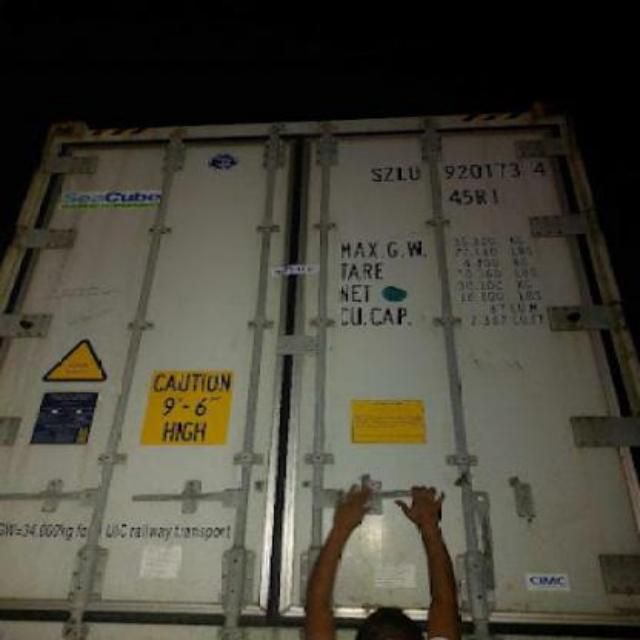0: (468, 159, 482, 183)
1: (482, 159, 494, 183)
2: (458, 158, 468, 182)
3: (508, 156, 522, 182)
4: (530, 153, 548, 180)
7: (494, 154, 508, 182)
9: (440, 157, 456, 183)
L: (394, 162, 406, 184)
S: (368, 163, 382, 184)
U: (408, 160, 420, 188)
Z: (381, 159, 394, 185)
